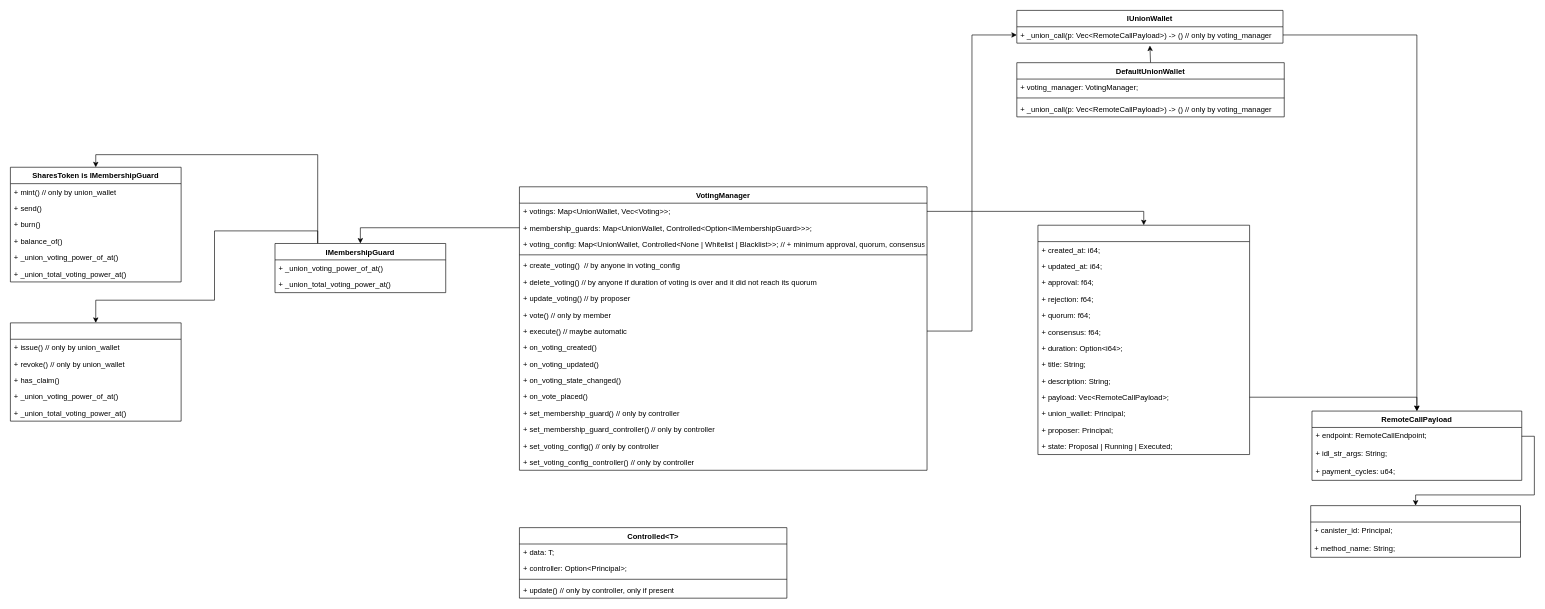
The diagram is 1545 pixels wide and 609 high, and some of its shapes have lost their labels. The box of each missing label's shape, as (x1, y1, x2, y2) in pixels:
ClaimToken is IMembershipGuard: (10, 322, 181, 421)
RemoteCallEndpoint: (1310, 505, 1521, 557)
Voting: (1037, 225, 1250, 455)
